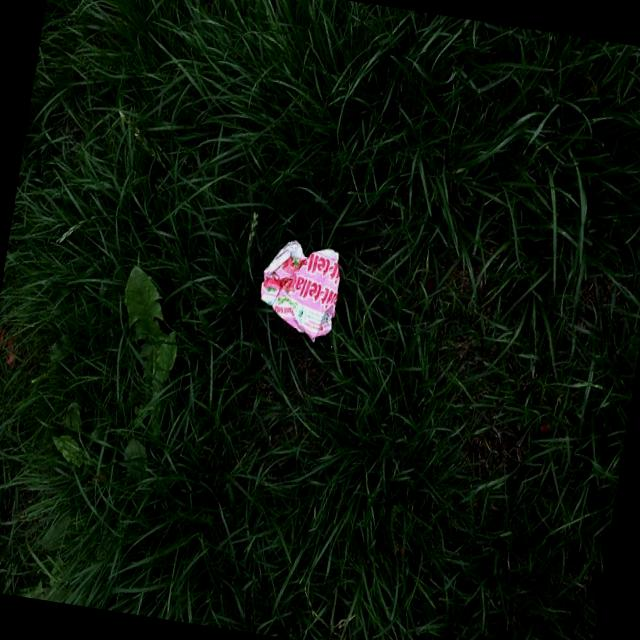Trash: (252, 234, 348, 343)
